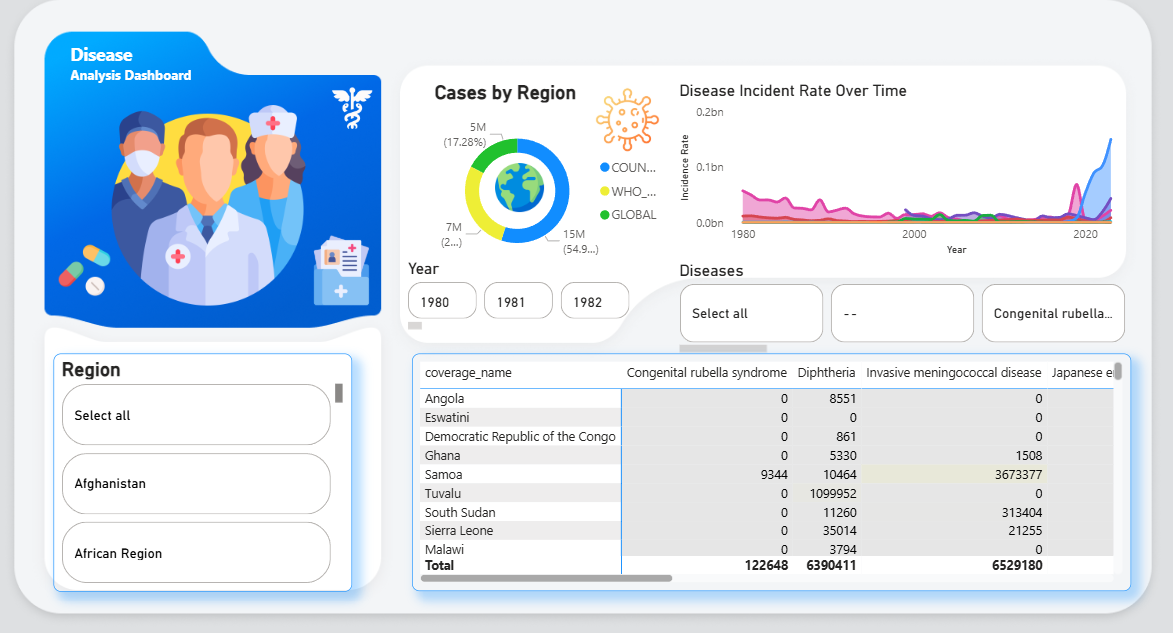

This screenshot's page, from the dashboard's own definition file:
{"tool":"powerbi","page":{"name":"Disease Analysis","canvas":[1280,720],"ordinal":2},"visuals":[{"type":"textbox","box":[90.7,70,222.7,66.8],"z":1000},{"type":"advancedSlicerVisual","fields":{"Values":["vaccine_db vaccine_combined_info.coverage_year"]},"box":[448.3,305,245,81.7],"z":2000},{"type":"advancedSlicerVisual","title":"Diseases","fields":{"Values":["vaccine_combined_info.incidence_disease_description"]},"box":[736.5,307,483.5,105],"z":3000},{"type":"lineChart","title":"Disease Incident Rate Over Time","fields":{"Category":["vaccine_combined_info.coverage_year"],"Y":["Sum(vaccine_combined_info.incidence_rate)"],"Series":["vaccine_combined_info.incidence_disease_description"]},"box":[736.5,116.1,544,189.3],"z":4000},{"type":"donutChart","title":"Cases by Region","fields":{"Category":["vaccine_combined_info.coverage_group"],"Y":["Table.Total_Cases"]},"box":[477.2,116.1,259.3,210],"z":5000},{"type":"advancedSlicerVisual","title":"Region","fields":{"Values":["vaccine_db vaccine_combined_info.coverage_name"]},"box":[77.9,405.6,316.5,252.9],"z":6000},{"type":"pivotTable","title":"Disease Over The Year","fields":{"Rows":["vaccine_combined_info.coverage_name"],"Columns":["vaccine_combined_info.incidence_disease_description"],"Values":["Sum(vaccine_combined_info.incidence_rate)"]},"box":[458.3,406.3,762.6,252.3],"z":7000},{"type":"image","box":[636.2,116.1,100.2,82.7],"z":8000},{"type":"image","box":[540.8,195.6,62,68.4],"z":9000},{"type":"image","box":[90.7,136.8,303.8,222.7],"z":10000},{"type":"image","box":[335.6,275.2,95.4,84.3],"z":11000},{"type":"image","box":[367.4,95.4,54.1,100.2],"z":12000},{"type":"image","box":[66.8,284.7,87.5,65.2],"z":13000}]}

Visuals, with their boxes on the page's 1280x720 design canvas (x1, y1, x2, y2). These are canvas units, not pixel positions in the 1173x633 screenshot, which may show the page scaled, cropped or inside an application window:
textbox: Rect(91, 70, 313, 137)
advancedSlicerVisual - vaccine_db vaccine_combined_info.coverage_year: Rect(448, 305, 693, 387)
"Diseases" advancedSlicerVisual: Rect(736, 307, 1220, 412)
"Disease Incident Rate Over Time" lineChart: Rect(736, 116, 1280, 305)
"Cases by Region" donutChart: Rect(477, 116, 736, 326)
"Region" advancedSlicerVisual: Rect(78, 406, 394, 658)
"Disease Over The Year" pivotTable: Rect(458, 406, 1221, 659)
image: Rect(636, 116, 736, 199)
image: Rect(541, 196, 603, 264)
image: Rect(91, 137, 394, 360)
image: Rect(336, 275, 431, 360)
image: Rect(367, 95, 422, 196)
image: Rect(67, 285, 154, 350)
